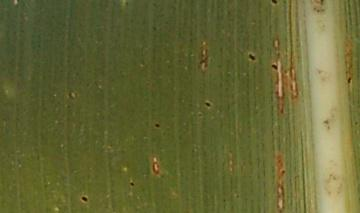tarspot: (80, 191, 92, 205), (246, 52, 257, 63), (269, 62, 280, 73), (345, 75, 356, 85), (204, 100, 212, 111), (269, 1, 282, 7), (155, 120, 163, 129), (128, 179, 138, 186), (280, 168, 287, 175)
